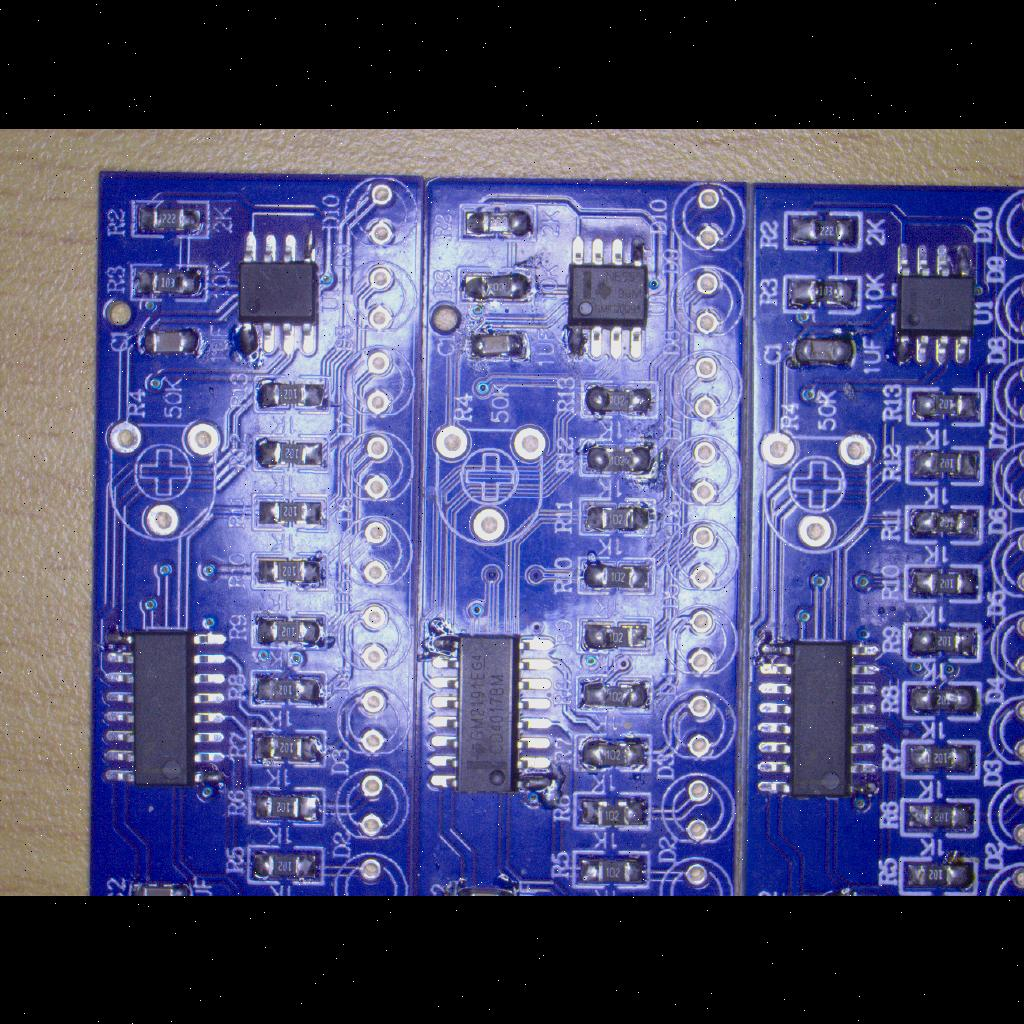OK: (747, 632, 897, 808), (420, 622, 564, 804), (94, 622, 232, 790), (560, 230, 658, 366), (886, 236, 984, 370), (231, 224, 327, 358), (575, 492, 661, 544), (573, 434, 661, 482), (898, 676, 986, 724), (244, 723, 330, 771), (126, 194, 214, 240), (246, 664, 330, 712), (244, 841, 328, 889), (580, 375, 662, 423), (125, 260, 213, 304), (248, 606, 332, 652), (901, 560, 985, 606), (454, 199, 540, 243), (246, 782, 328, 828), (782, 208, 864, 254), (251, 372, 335, 416), (249, 490, 333, 534), (246, 549, 330, 593), (455, 262, 539, 306), (570, 730, 654, 774), (904, 384, 988, 428), (902, 502, 986, 546), (898, 796, 982, 840), (899, 622, 985, 664), (576, 553, 658, 597), (904, 442, 986, 486), (782, 328, 864, 372), (570, 790, 654, 832), (250, 433, 330, 477), (574, 614, 656, 656), (570, 848, 652, 890), (781, 272, 863, 314), (898, 854, 980, 894), (573, 672, 653, 712), (458, 326, 538, 364), (137, 322, 205, 360), (904, 742, 980, 774)
